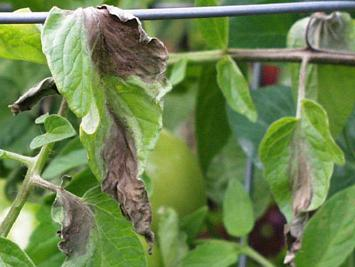Tomato leaf late blight: (35, 4, 171, 252), (245, 99, 353, 267), (35, 178, 169, 267)
